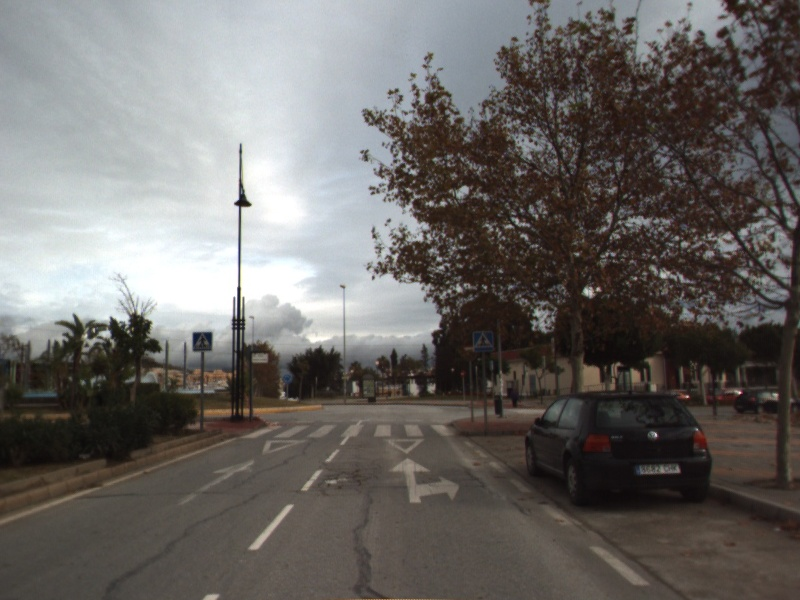STRAIGHT: (174, 456, 257, 507)
STRAIGHT_RIGHT: (386, 456, 462, 505)
